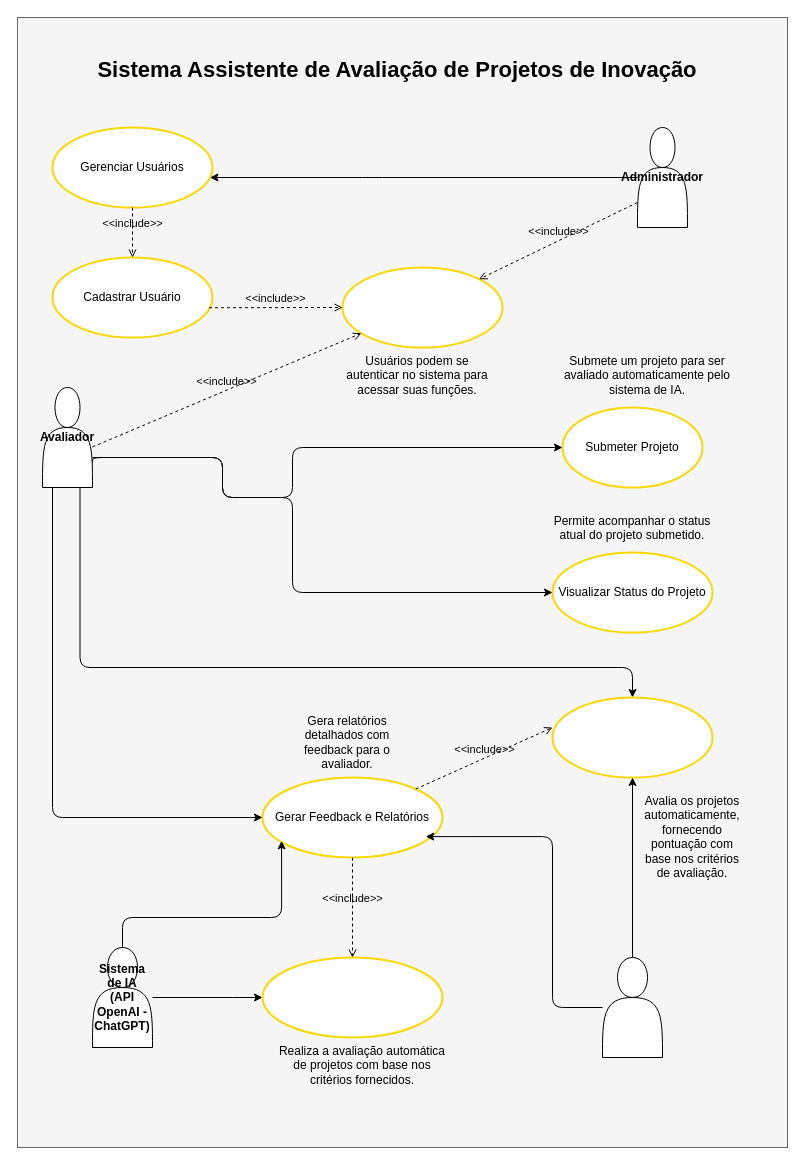
This 805x1165 diagram has some shape labels left out. The shapes that lost their labels are listed below. From the top down, each one's centre as x and y in pixels, then its label:
At (x=422, y=307): "Login".
At (x=632, y=737): "Avaliação Métrica dos Projetos".
At (x=352, y=997): "Avaliação Automática de Projetos".
At (x=632, y=1007): "Sistema de IA Machine Learning".
